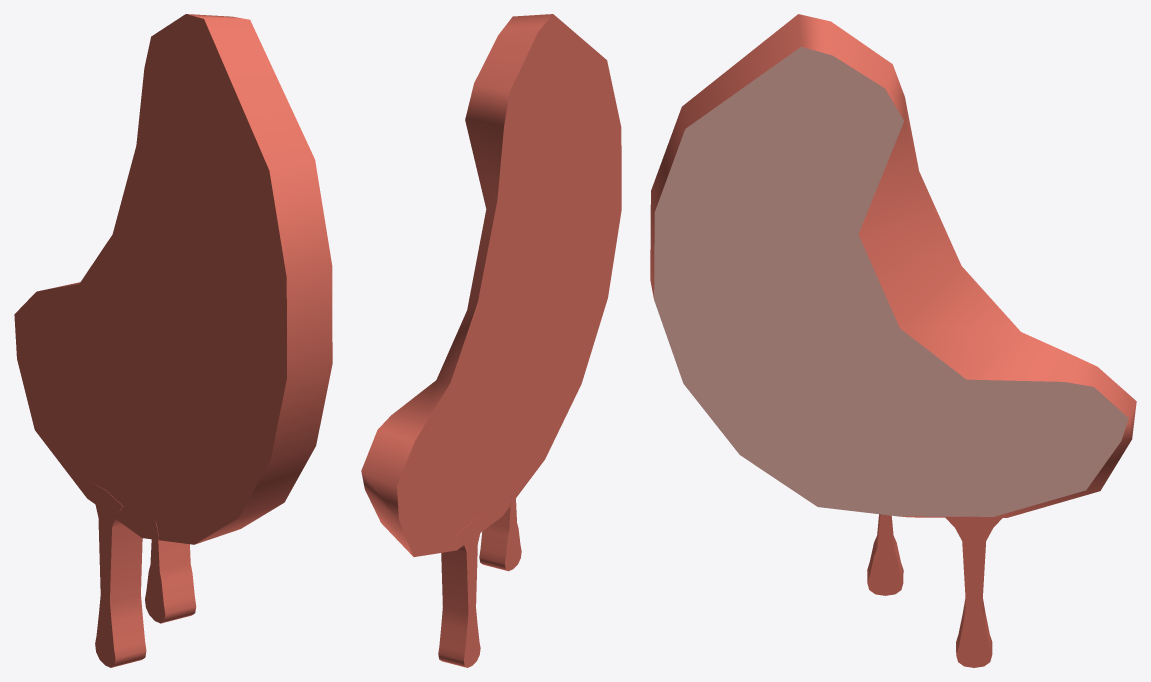
The model's file is PeachSign.fbx.
3 views of the same model, side by side, from view 1: azimuth 30°, elevation 25°; view 2: azimuth 150°, elevation 25°; view 3: azimuth 270°, elevation 25° (orthographic). The views are drawn at different scales.
Parts seen in each view (by area): view 1: pSphere3; view 2: pSphere3; view 3: pSphere3.
Part boxes in pixels (x1=…): pSphere3: x1=14, y1=14, x2=332, y2=667; pSphere3: x1=361, y1=14, x2=621, y2=667; pSphere3: x1=650, y1=14, x2=1136, y2=667.
Size of the model in its own units: 7.89 by 113 by 77.9.
